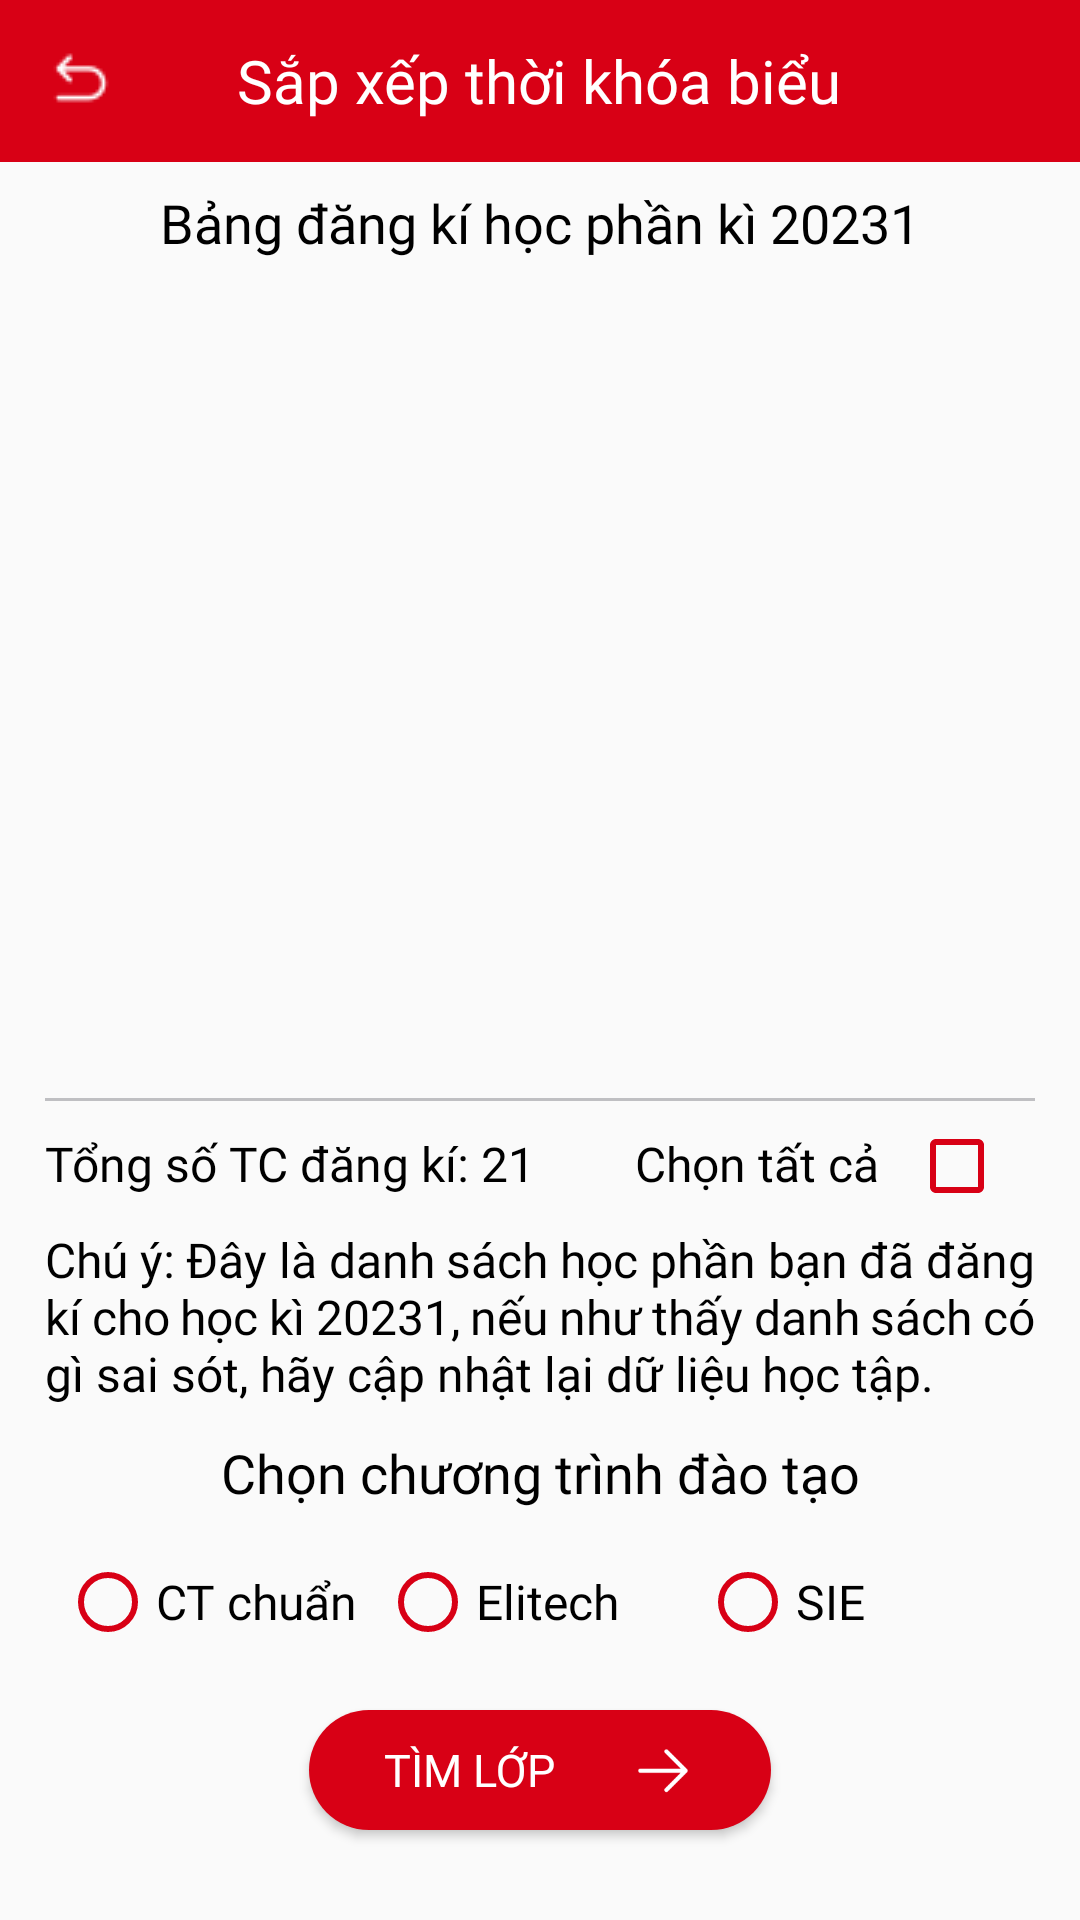

Named icons in this screenshot (1080px x 1920px) and their bounding boxes, Rect(x1, y1, x2, y2):
return: Rect(55, 53, 108, 103)
